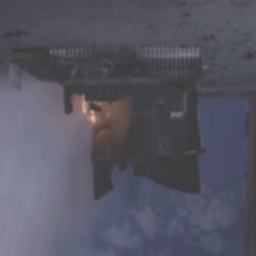fire: (73, 95, 106, 136)
smoke: (0, 133, 94, 256)
